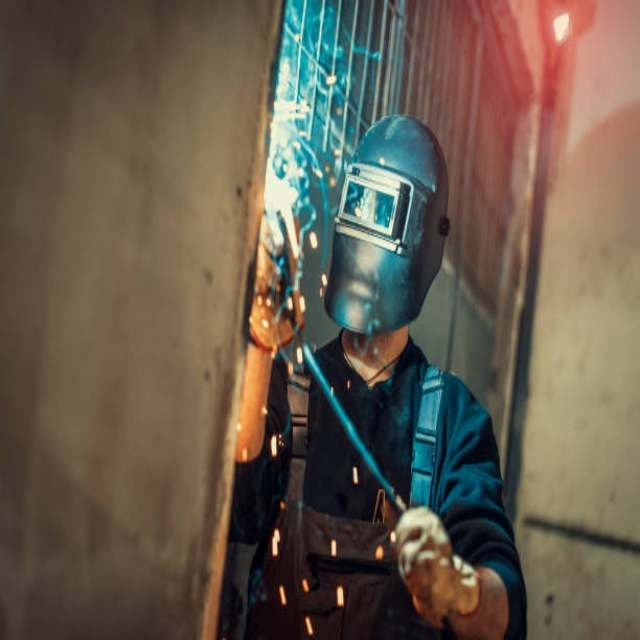Guantes: (392, 497, 482, 624), (247, 193, 317, 355)
